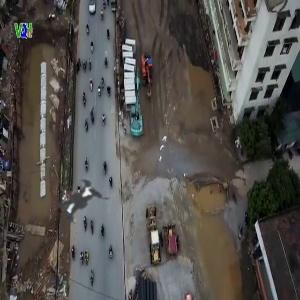drone: (22, 147, 133, 258)
